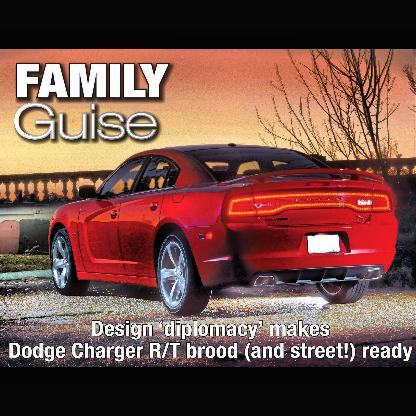Dodge Charger Sedan 2012: (47, 140, 402, 320)
